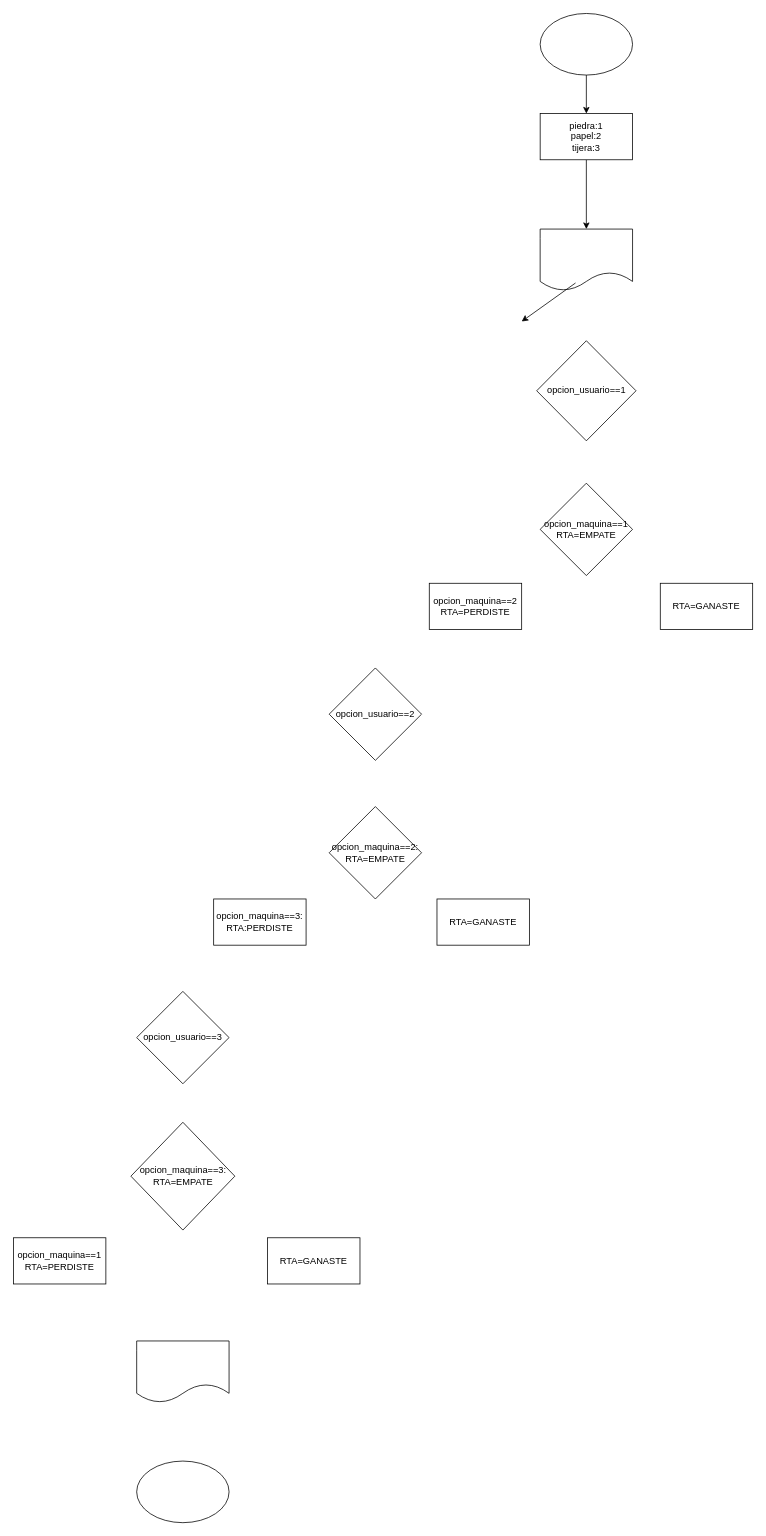
Image size: 766x1536. Some labels were removed from this diagram. Here are the shapes that lost their labels. From the top down, the centre of each, then its label:
point 586,44: INICIO
point 586,259: DIGITE SU ELECCION
point 182,1371: RESULTADOS
point 182,1491: FIN
